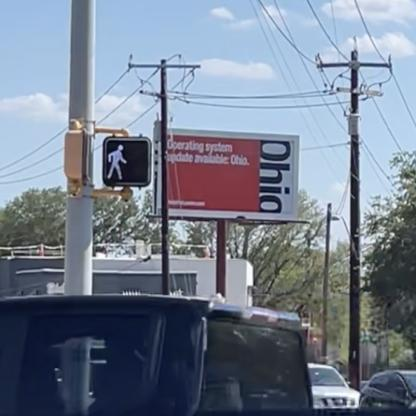Walk: (103, 138, 151, 184)
